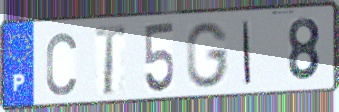5: (143, 21, 176, 95)
8: (287, 16, 323, 83)
C: (44, 29, 79, 98)
G: (184, 20, 231, 90)
I: (241, 19, 253, 87)
T: (93, 23, 129, 98)
